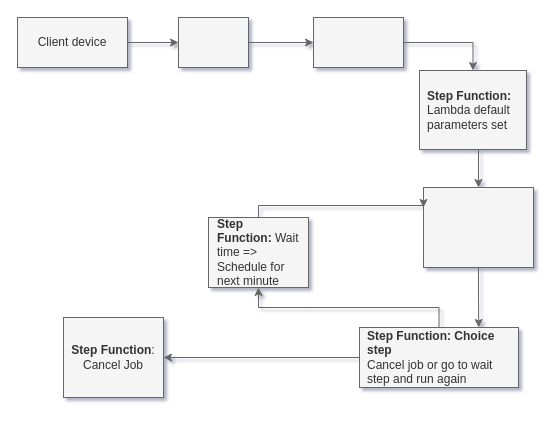
Some shapes in this 557 by 421 pixel diagram are drawn without their labels. Here are the shapes that lost their labels. From the top down, the box of each, then its label:
(178, 16, 248, 68): API Gateway
(312, 16, 404, 68): Step Function Start
(422, 186, 534, 268): Lambda : Market data retrieved and evaluated. Buy/sell orders made
